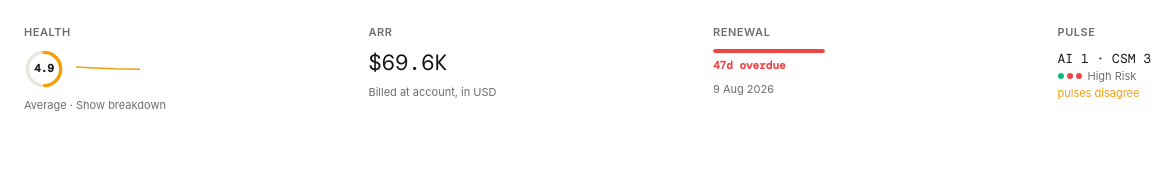
Test: HeaderTiles (spec §1.3) › shows the read error in place of the breakdown
The width and height of the screenshot is (1168, 183).
Click the button "Health 4.9 Average · Show breakdown" at (47, 32), box x1=12 y1=12 x2=344 y2=125
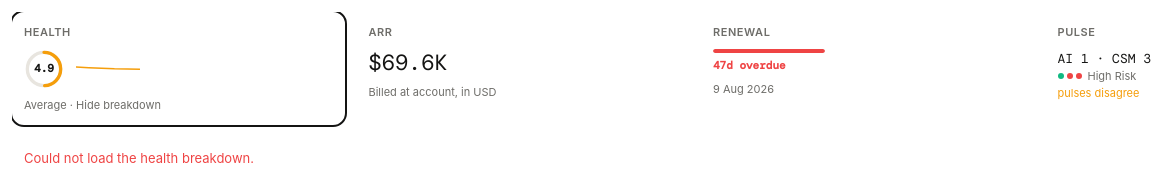
Check: the message reads "Could not load the health breakdown.", box x1=24 y1=150 x2=254 y2=166
